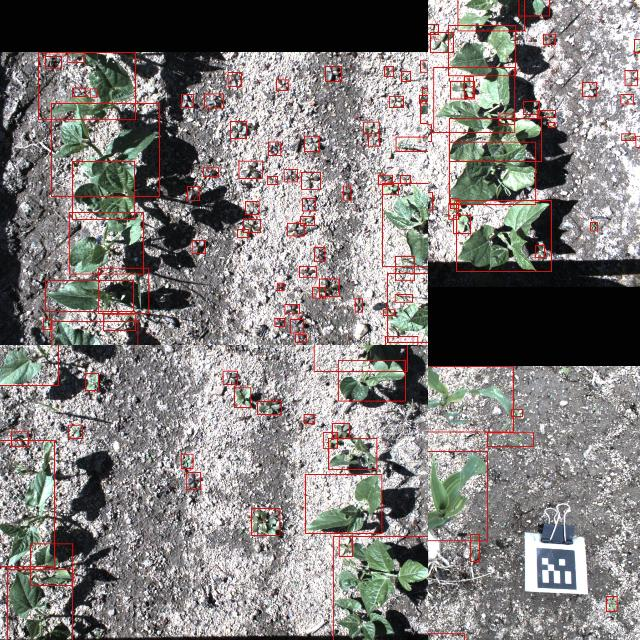crop: (51, 102, 159, 196), (333, 536, 428, 640), (0, 440, 55, 566), (456, 200, 552, 272), (38, 51, 136, 119), (428, 365, 513, 431), (448, 142, 536, 204), (434, 66, 514, 132), (428, 450, 486, 540), (68, 212, 144, 274), (7, 569, 72, 640), (304, 473, 382, 532), (382, 182, 428, 266), (449, 118, 541, 160), (72, 161, 134, 219), (448, 25, 516, 75), (387, 272, 428, 341), (45, 279, 133, 311), (338, 360, 406, 400), (314, 345, 407, 370), (0, 345, 58, 385), (52, 321, 138, 345), (457, 0, 524, 30), (29, 543, 72, 585), (329, 437, 377, 469), (68, 51, 84, 61)
weed: (99, 267, 149, 313), (252, 508, 280, 534), (487, 432, 533, 446), (103, 314, 135, 330), (395, 135, 428, 150), (431, 31, 454, 51), (396, 256, 414, 280), (238, 160, 262, 178), (451, 80, 475, 98), (519, 0, 549, 14), (319, 278, 339, 296), (454, 214, 471, 233), (235, 387, 251, 407), (257, 401, 281, 414), (302, 172, 321, 188), (384, 336, 417, 345), (231, 120, 247, 138), (332, 422, 350, 438), (470, 533, 480, 561), (204, 93, 223, 107), (304, 135, 320, 151), (12, 430, 28, 446), (186, 471, 200, 489), (340, 536, 352, 556), (243, 218, 260, 232), (85, 372, 98, 390), (325, 66, 341, 80), (582, 82, 598, 96), (624, 69, 638, 85), (523, 100, 539, 114), (323, 431, 337, 447), (288, 222, 304, 235), (222, 371, 238, 384), (464, 76, 474, 96), (228, 71, 242, 85), (290, 319, 304, 333), (68, 424, 82, 438), (45, 55, 61, 67), (314, 246, 326, 262), (420, 99, 428, 122), (245, 200, 259, 213), (364, 121, 378, 133), (192, 240, 206, 252), (187, 186, 199, 200), (284, 168, 296, 182), (302, 198, 316, 210), (269, 141, 281, 155), (312, 286, 326, 298), (181, 454, 193, 468), (383, 183, 399, 193), (284, 304, 300, 314), (300, 266, 316, 276), (448, 203, 458, 219), (499, 113, 515, 123), (607, 596, 617, 612), (389, 95, 403, 106), (395, 294, 413, 302), (181, 94, 193, 106), (276, 78, 288, 90), (368, 133, 380, 145), (378, 174, 392, 184), (72, 86, 86, 95), (204, 167, 218, 176), (543, 33, 555, 43), (621, 94, 633, 104), (536, 110, 556, 116), (343, 185, 351, 199), (354, 298, 362, 312), (300, 216, 314, 224), (536, 245, 544, 258), (384, 65, 394, 75), (428, 23, 438, 33), (304, 413, 314, 423), (266, 176, 278, 184), (402, 71, 411, 81), (420, 59, 428, 70), (634, 38, 640, 52), (419, 94, 428, 103), (43, 319, 51, 329), (238, 229, 248, 237), (400, 175, 410, 183), (275, 318, 285, 326), (296, 334, 306, 342), (451, 198, 459, 208), (512, 408, 522, 416), (622, 134, 634, 140), (428, 192, 432, 210), (276, 282, 284, 290), (590, 222, 598, 230), (384, 309, 394, 315), (90, 88, 96, 96), (636, 135, 640, 147), (422, 87, 428, 94), (548, 122, 554, 126)
